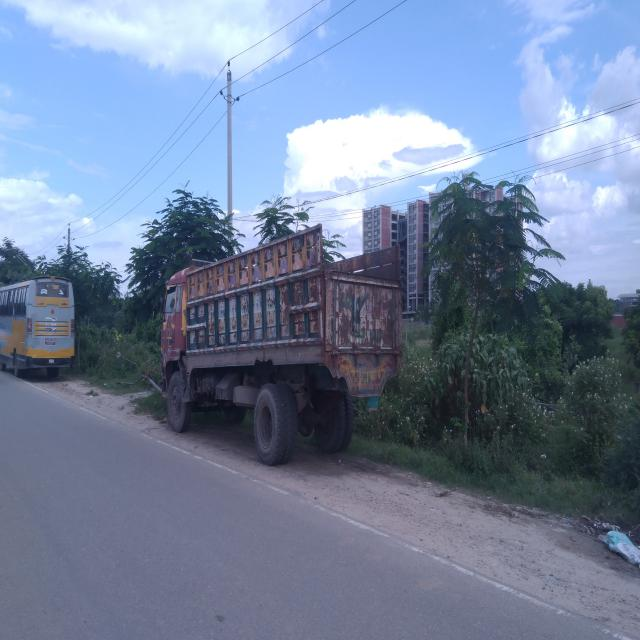bus: (0, 272, 80, 372)
truck: (158, 231, 410, 465)
